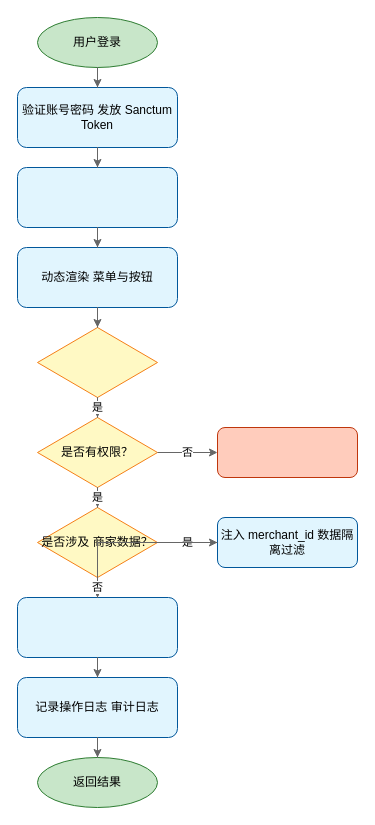
Some shapes in this 375 by 825 pixel diagram are drawn without their labels. The shapes that lost their labels are listed below. From the top down, each one's centre as x and y in pixels, then its label:
[97,197]: 查询用户角色 及角色权限
[97,362]: 请求 API？
[287,452]: 返回 403 无权访问
[97,627]: 执行业务逻辑
